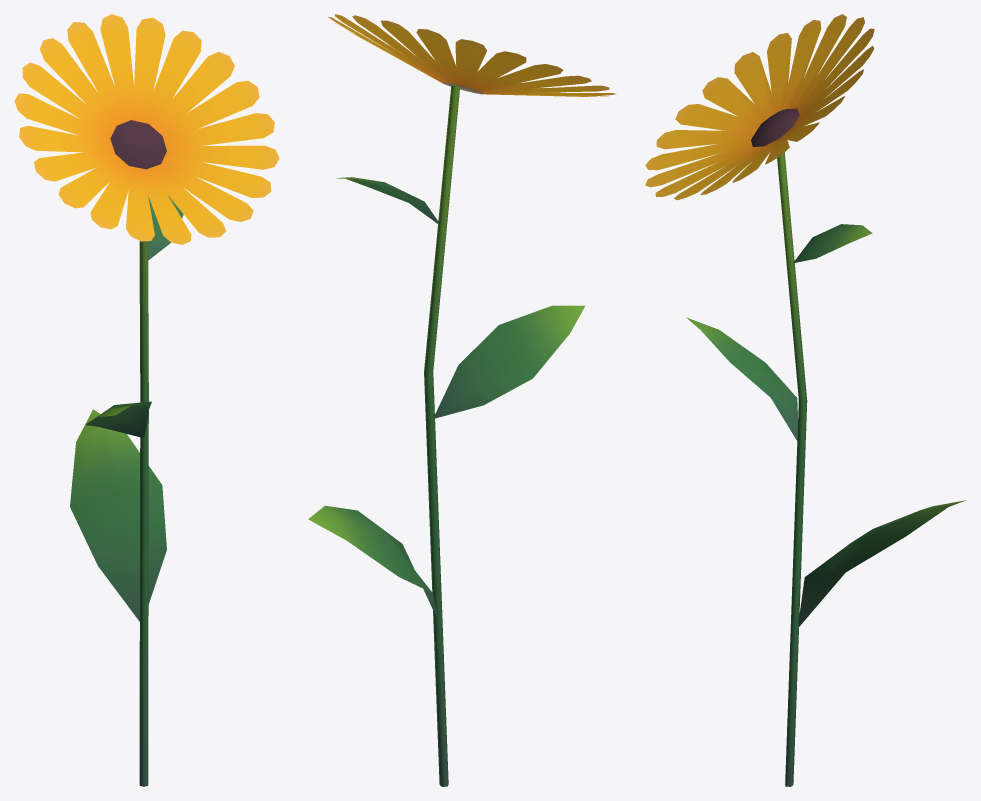
The model's file is flower_012_base_material_0.fbx.
The picture shows the model from 3 angles, left to right: view 1: azimuth 30°, elevation 25°; view 2: azimuth 150°, elevation 25°; view 3: azimuth 270°, elevation 25°; orthographic projection. The views are drawn at different scales.
Visible parts, largest first — view 1: flower_012_base_material_0; view 2: flower_012_base_material_0; view 3: flower_012_base_material_0.
Boxes of the visible parts, left/top/right/bottom form: flower_012_base_material_0: left=14, top=14, right=279, bottom=786; flower_012_base_material_0: left=308, top=14, right=616, bottom=786; flower_012_base_material_0: left=645, top=14, right=965, bottom=786.
Bounding box in the file's own units: 0.7341 × 0.8531 × 2.17.
Materials: 1 (1 with a texture image).
